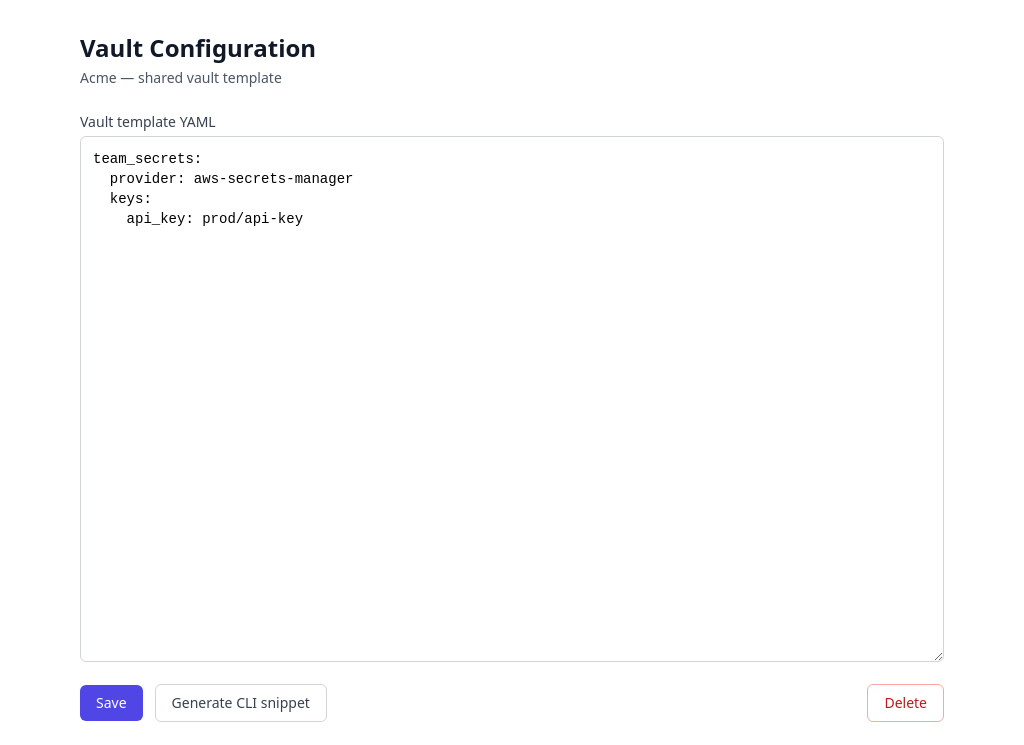
vault-config page › deletes only after the inline confirmation, then empties the editor
Click the button with test id "vault-delete-button": (906, 703) [867,684,944,722]
(page scrolled)
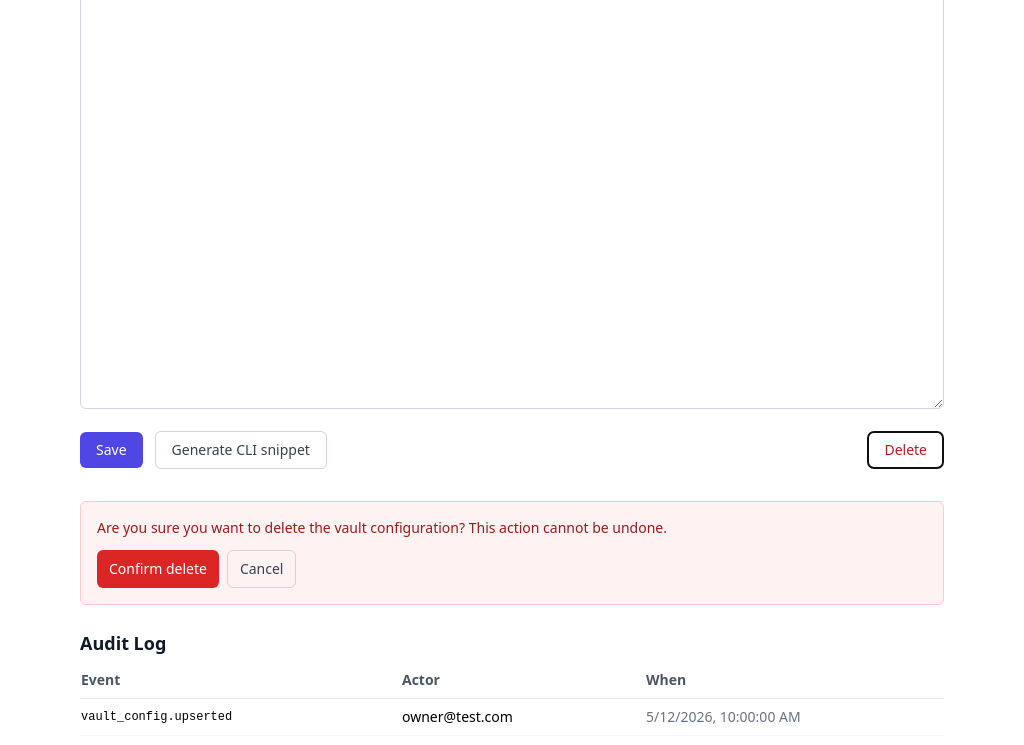
Expected: the button with test id "vault-delete-confirm" is shown
Click the button with test id "vault-delete-confirm": (158, 569) [97,550,219,588]
(page scrolled)
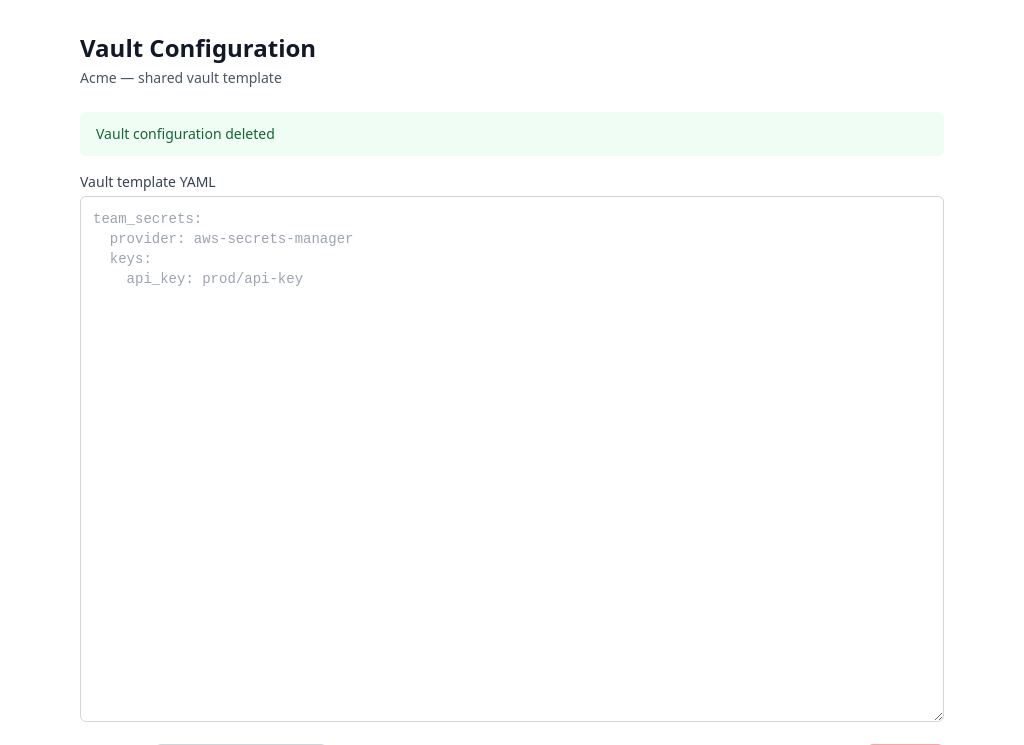
Expected: the text box with test id "vault-editor" is empty, [80,196,944,722]
Expected: the text "Vault configuration deleted" is shown, [80,112,944,156]
Expected: the button with test id "vault-delete-confirm" is gone
